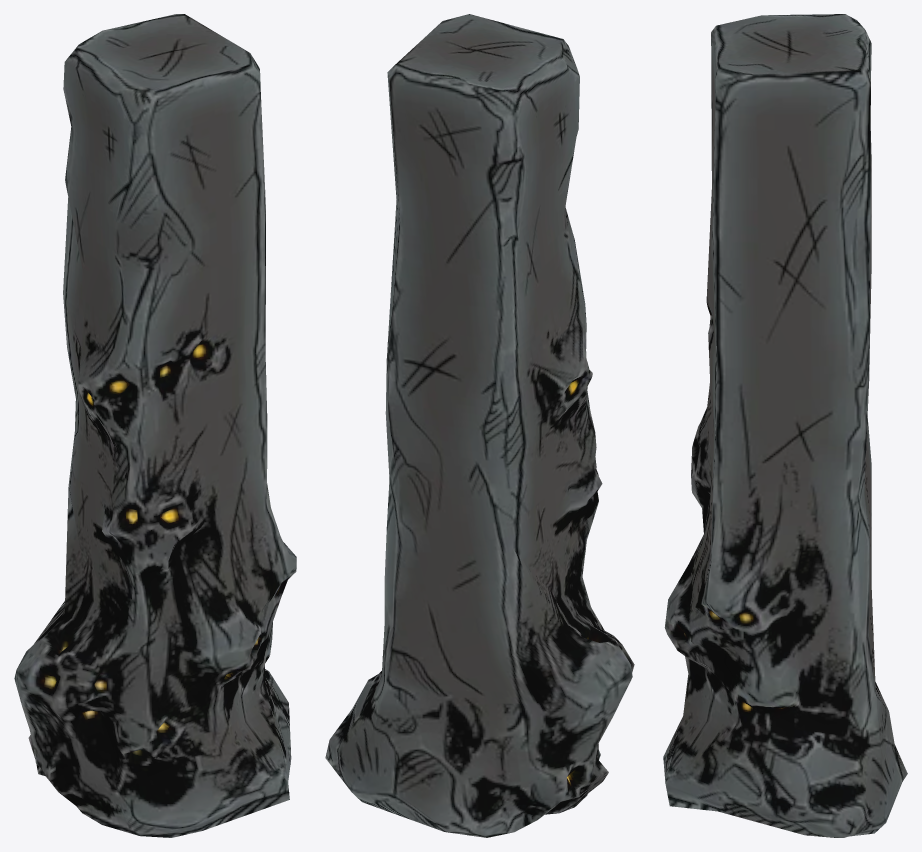
File: PRP_StandingStone.glb
3 views of the same model, side by side, from view 1: azimuth 30°, elevation 25°; view 2: azimuth 150°, elevation 25°; view 3: azimuth 270°, elevation 25° (orthographic).
Visible parts, largest first — view 1: Rock_LOD0_m_Rock_0; view 2: Rock_LOD0_m_Rock_0; view 3: Rock_LOD0_m_Rock_0.
Boxes of the visible parts, x1,y1,x2,y2 form: Rock_LOD0_m_Rock_0: [14, 14, 296, 837]; Rock_LOD0_m_Rock_0: [325, 14, 634, 837]; Rock_LOD0_m_Rock_0: [663, 14, 907, 837].
Bounding box in the file's own units: 0.0403 × 0.103 × 0.0304.
1 material, 1 textured.
